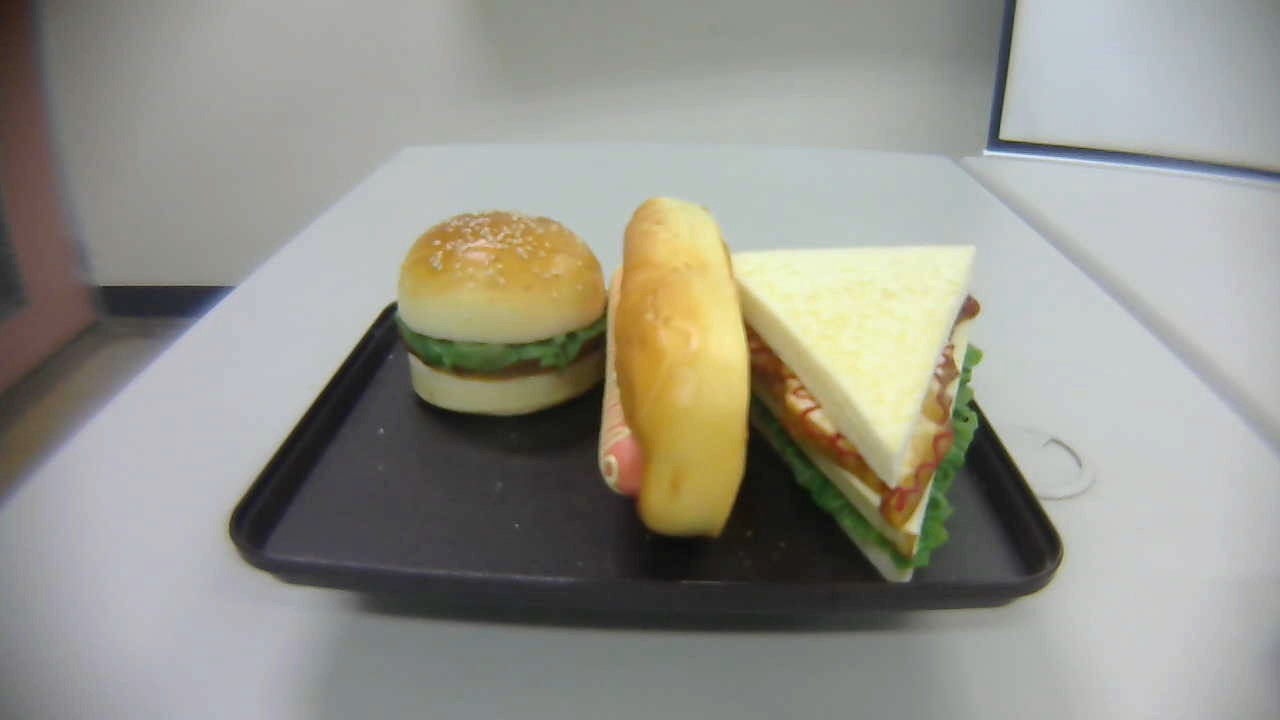hamburger: (395, 207, 608, 419)
hot dog: (599, 192, 751, 541)
sandwich: (727, 244, 982, 586)
